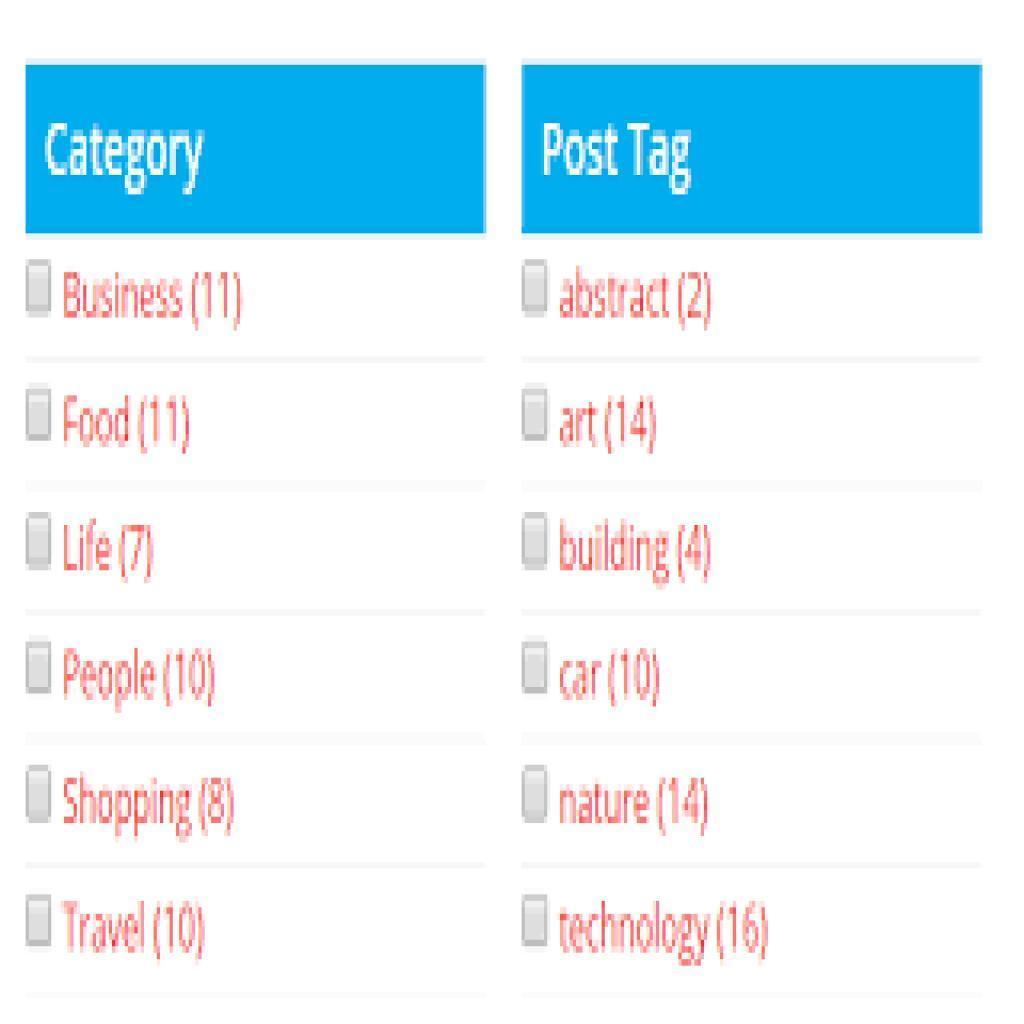checkbox: (26, 769, 55, 821), (524, 767, 550, 825), (520, 517, 550, 567), (26, 260, 52, 316), (521, 896, 549, 946), (25, 519, 51, 570), (29, 643, 54, 695), (26, 894, 51, 945), (521, 265, 547, 314), (524, 393, 548, 443), (523, 644, 548, 692), (29, 391, 52, 442)
label: (558, 896, 770, 963), (62, 261, 252, 331), (60, 771, 244, 841), (57, 895, 223, 971), (540, 117, 711, 190), (45, 122, 212, 196), (559, 262, 729, 327), (556, 519, 719, 585), (557, 774, 719, 838), (69, 652, 222, 718), (63, 384, 205, 454), (59, 517, 169, 584), (551, 651, 670, 710), (560, 390, 659, 454)
